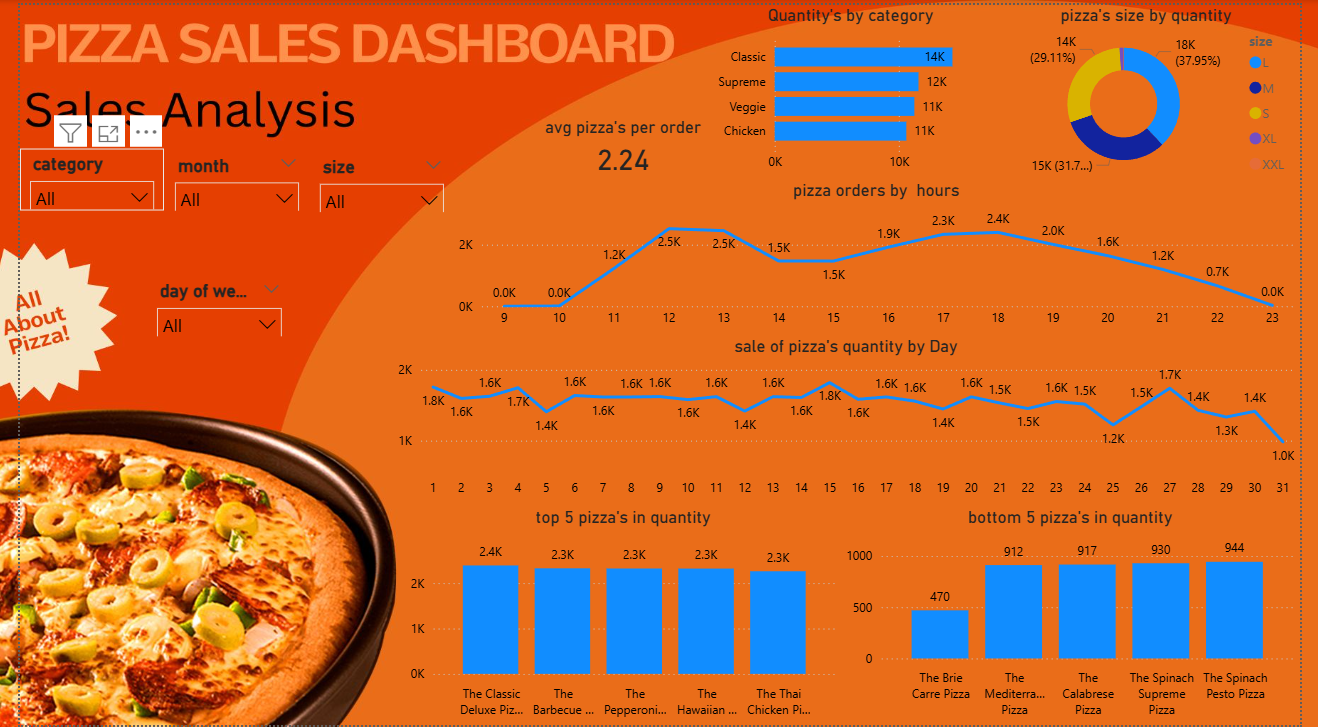

The page's visual inventory and layout, read from the dashboard file:
{"tool":"powerbi","page":{"name":"Page 2","canvas":[1280,720],"ordinal":1},"visuals":[{"type":"slicer","fields":{"Values":["pizza_types.category"]},"box":[0,144.1,144.1,61.2],"z":0},{"type":"slicer","fields":{"Values":["orders.month"]},"box":[145.5,145.5,144.1,61.2],"z":1000},{"type":"slicer","fields":{"Values":["pizzas.size"]},"box":[289.6,146.8,144.1,61.2],"z":2000},{"type":"slicer","fields":{"Values":["orders.day of week"]},"box":[127,270.6,144.9,60.7],"z":3000},{"type":"barChart","title":"Quantity''s by category","fields":{"Category":["pizza_types.category"],"Y":["Sum(order_details.quantity)"]},"box":[688.8,0,284.4,175.3],"z":4000},{"type":"donutChart","title":"pizza''s size by quantity","fields":{"Category":["pizzas.size"],"Y":["Sum(order_details.quantity)"]},"box":[973.2,0,306.4,178.1],"z":5000},{"type":"columnChart","title":"top 5 pizza''s in quantity ","fields":{"Category":["pizza_types.name"],"Y":["Sum(order_details.quantity)"]},"box":[384.7,503,436.4,217.5],"z":6000},{"type":"columnChart","title":"bottom 5 pizza''s in quantity ","fields":{"Category":["pizza_types.name"],"Y":["Sum(order_details.quantity)"]},"box":[821.3,502.5,458.3,218.1],"z":7000},{"type":"lineChart","title":"sale of pizza''s quantity by Day","fields":{"Category":["orders.date.Variation.Date Hierarchy.Day"],"Y":["Sum(order_details.quantity)"]},"box":[372.7,331.3,906.9,169.8],"z":8000},{"type":"lineChart","title":"pizza orders by  hours","fields":{"Category":["orders.order hour"],"Y":["orders.total_orders"]},"box":[433.4,175.3,846.2,156],"z":9000},{"type":"card","title":"avg pizza''s per order","fields":{"Values":["order_details.avg pizza per order"]},"box":[517.6,111.8,171.2,63.5],"z":10000}]}

Visuals, with their boxes in screenshot pixels (x1, y1, x2, y2), scaled from the page's 1280x720 canvas onto the 1318x727 screenshot:
slicer - pizza_types.category: bbox=[0, 146, 148, 207]
slicer - orders.month: bbox=[150, 147, 298, 209]
slicer - pizzas.size: bbox=[298, 148, 447, 210]
slicer - orders.day of week: bbox=[131, 273, 280, 335]
"Quantity''s by category" barChart: bbox=[709, 0, 1002, 177]
"pizza''s size by quantity" donutChart: bbox=[1002, 0, 1317, 180]
"top 5 pizza''s in quantity " columnChart: bbox=[396, 508, 845, 726]
"bottom 5 pizza''s in quantity " columnChart: bbox=[846, 507, 1317, 726]
"sale of pizza''s quantity by Day" lineChart: bbox=[384, 335, 1317, 506]
"pizza orders by  hours" lineChart: bbox=[446, 177, 1317, 335]
"avg pizza''s per order" card: bbox=[533, 113, 709, 177]
